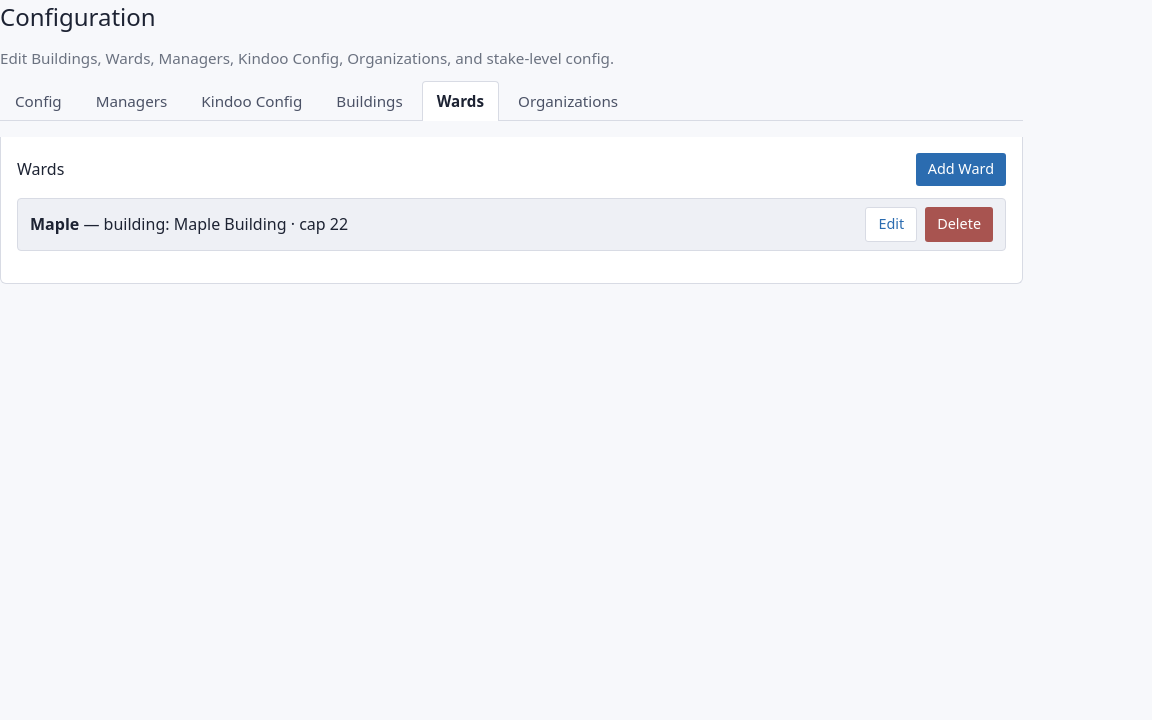
Test: <ConfigurationPage /> › preselects the building by building_id when editing a migrated ward
This screenshot has width=1152, height=720.
What coordinates should you click on to do the following:
click the button with test id "config-ward-edit-CO"
I would click on:
 (891, 224)
Its box is [866, 207, 917, 242].
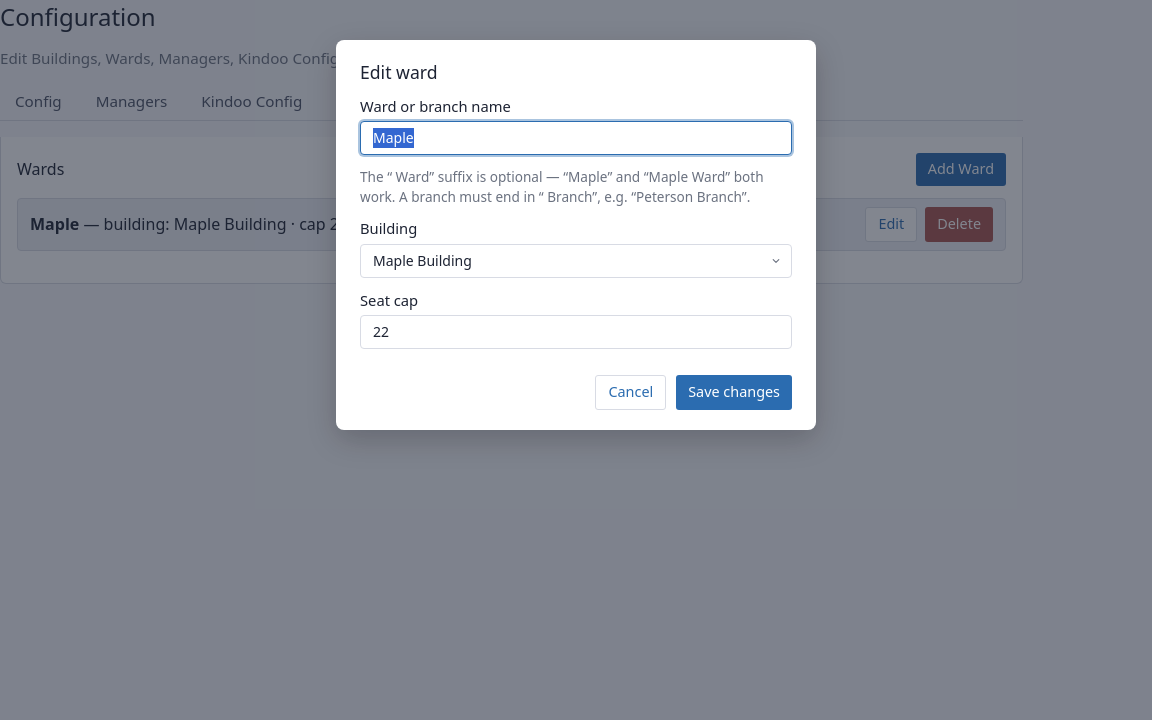
Result: the dropdown labelled "Building" shows "Maple Building" at [360, 244, 792, 278]
